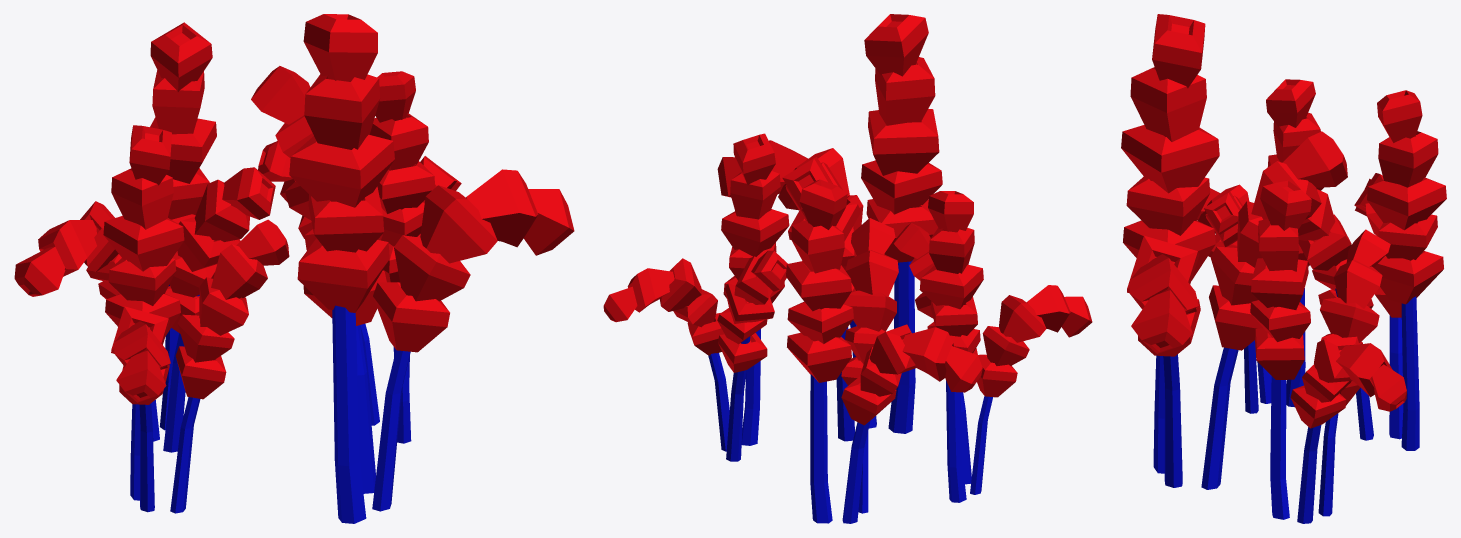
File: SM_Wheat2.fbx
3 renders of one model, left to right at view 1: azimuth 30°, elevation 25°; view 2: azimuth 150°, elevation 25°; view 3: azimuth 270°, elevation 25°, orthographic. The views are drawn at different scales.
Visible parts, largest first — view 1: SM_Wheat2; view 2: SM_Wheat2; view 3: SM_Wheat2.
Boxes of the visible parts, x1=… form: SM_Wheat2: x1=14, y1=14, x2=574, y2=523; SM_Wheat2: x1=603, y1=14, x2=1092, y2=523; SM_Wheat2: x1=1121, y1=14, x2=1446, y2=523.
Size of the model in its own units: 50.39 by 52.38 by 34.54.
